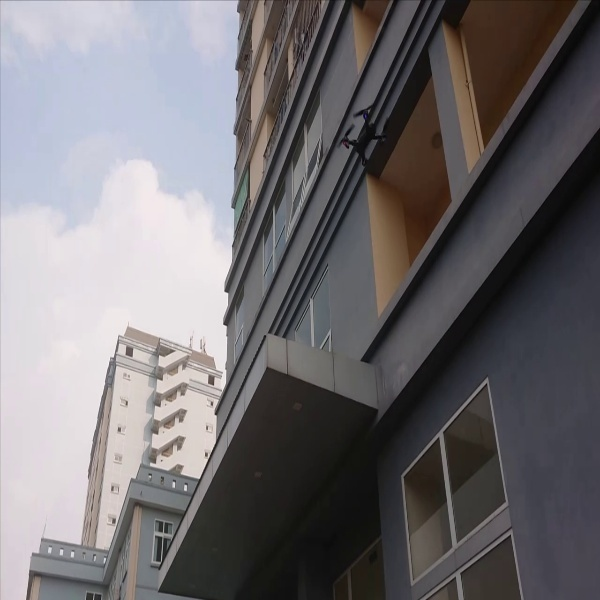drone: (332, 94, 394, 171)
